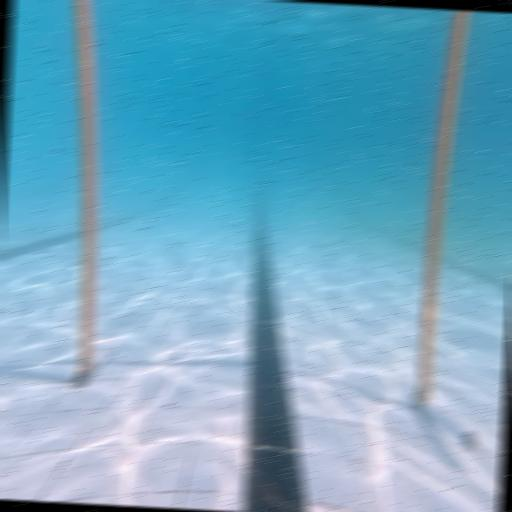gate: (49, 0, 502, 451)
